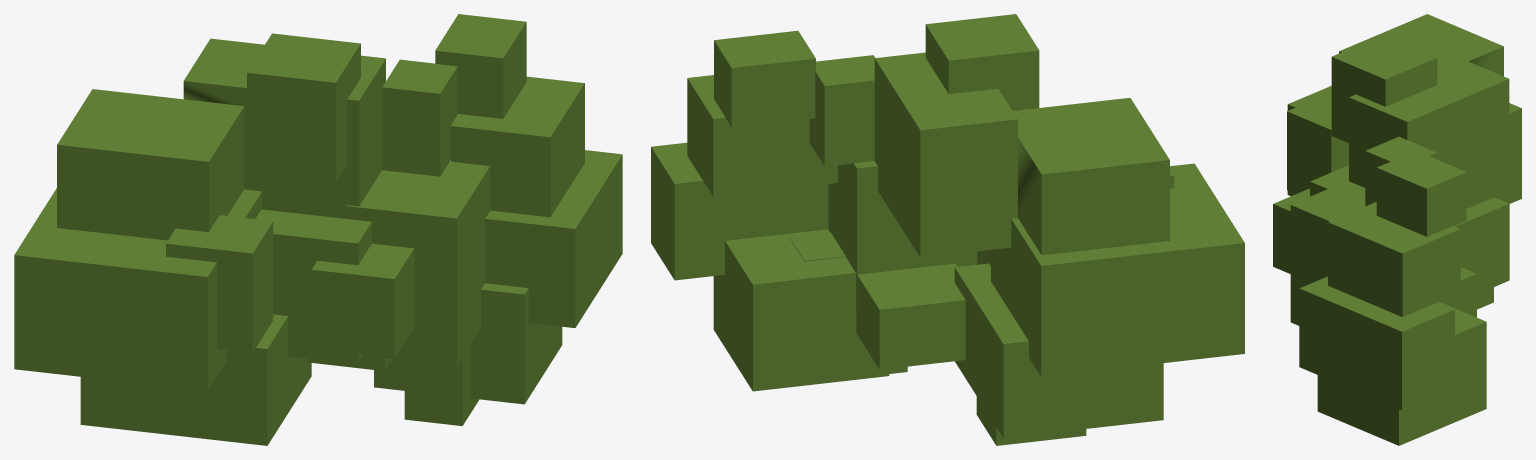
The model's file is Pods_Complete.FBX.
3 views of the same model, side by side, from view 1: azimuth 30°, elevation 25°; view 2: azimuth 150°, elevation 25°; view 3: azimuth 270°, elevation 25° (orthographic). The views are drawn at different scales.
Visible parts, largest first — view 1: pods_v2; view 2: pods_v2; view 3: pods_v2.
Part boxes in pixels (x1,y1,x2,y2): pods_v2: [14, 14, 622, 445]; pods_v2: [651, 14, 1244, 445]; pods_v2: [1273, 14, 1521, 445].
Bounding box in the file's own units: 362 × 161 × 213.
